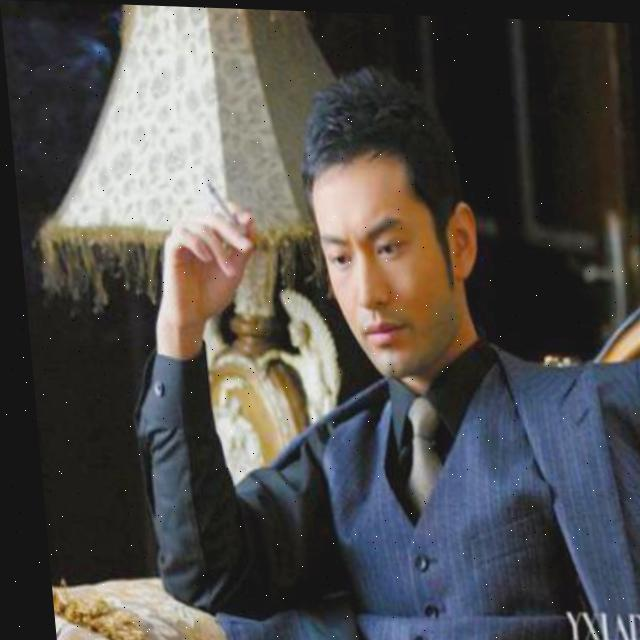cigarette: (202, 179, 234, 223)
